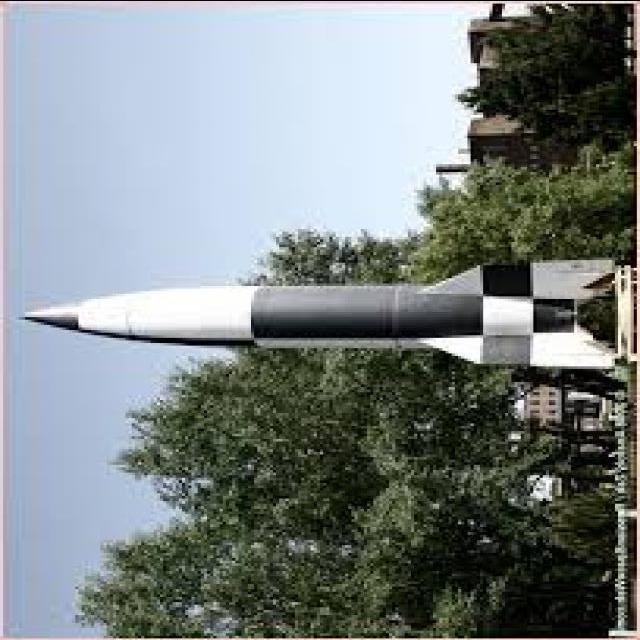Missile: (10, 268, 624, 372)
